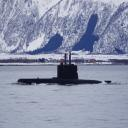submarine: (19, 51, 115, 86)
